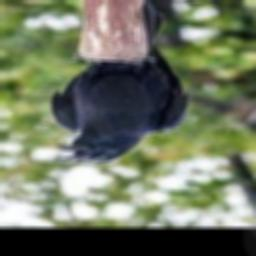Crow: (49, 0, 188, 163)
